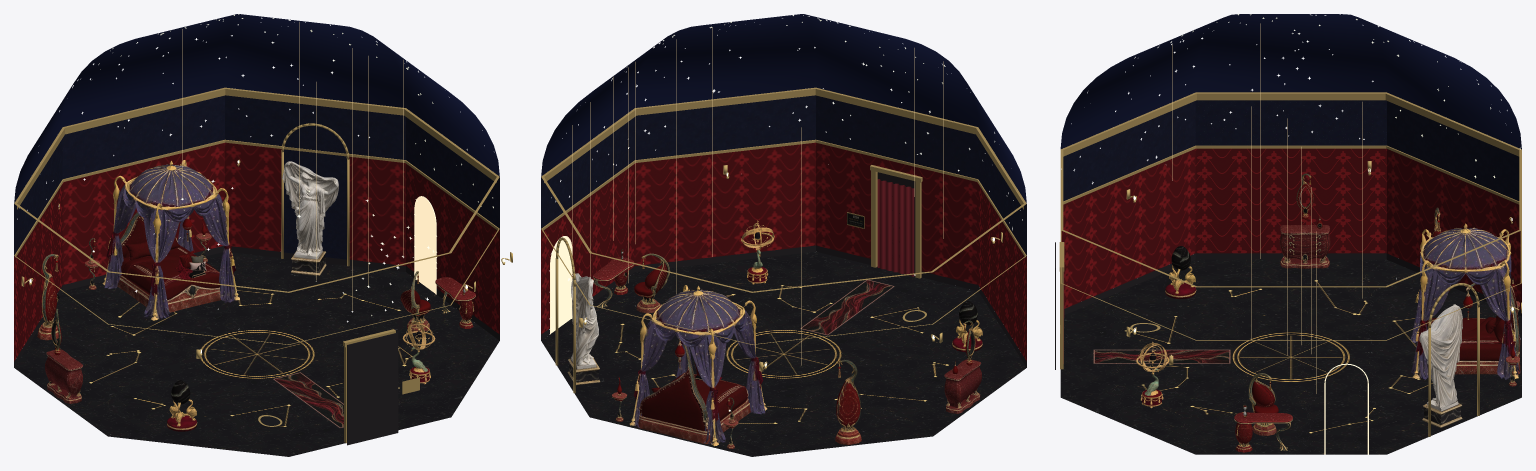
The model's file is rdwe_god_nyx.glb.
The picture shows the model from 3 angles, left to right: view 1: azimuth 30°, elevation 25°; view 2: azimuth 150°, elevation 25°; view 3: azimuth 270°, elevation 25°; orthographic projection.
Parts seen in each view (by area): view 1: Floor_Marble, Wall_Damask, Dome_Night, Wall_Upper, Gold_Trim, Nyx_P20_veil_canopy, Trim_Black, Nyx_NX-05_bed, Nyx_P4_statue_nyx, DoorLeaf_Nyx_Star, Nyx_NX-11_runner, Nyx_NX-03_dresser (+6 smaller); view 2: Floor_Marble, Wall_Damask, Dome_Night, Wall_Upper, Gold_Trim, Nyx_P20_veil_canopy, Nyx_NX-05_bed, DoorLeaf_Nyx_In, Trim_Black, Nyx_P4_statue_nyx, Nyx_NX-11_runner, DoorLeaf_Nyx_Star (+6 smaller); view 3: Floor_Marble, Wall_Damask, Dome_Night, Wall_Upper, Gold_Trim, Nyx_P20_veil_canopy, Nyx_P4_statue_nyx, Nyx_NX-05_bed, Trim_Black, Nyx_NX-03_dresser, Nyx_NX-11_runner, Nyx_NX-07_writing_desk (+3 smaller).
Boxes of the visible parts, x1,y1,x2,y2 form: Floor_Marble: [14, 252, 499, 456]; Wall_Damask: [14, 142, 499, 361]; Dome_Night: [14, 14, 499, 203]; Wall_Upper: [14, 95, 499, 259]; Gold_Trim: [14, 87, 499, 443]; Nyx_P20_veil_canopy: [102, 160, 239, 320]; Trim_Black: [14, 246, 499, 445]; Nyx_NX-05_bed: [117, 212, 220, 312]; Nyx_P4_statue_nyx: [282, 161, 338, 275]; DoorLeaf_Nyx_Star: [414, 196, 436, 294]; Nyx_NX-11_runner: [272, 372, 343, 428]; Nyx_NX-03_dresser: [45, 349, 82, 403]; Floor_Marble: [541, 251, 1026, 456]; Wall_Damask: [541, 142, 1026, 361]; Dome_Night: [541, 14, 1026, 202]; Wall_Upper: [541, 95, 1026, 256]; Gold_Trim: [541, 87, 1026, 393]; Nyx_P20_veil_canopy: [629, 285, 767, 446]; Nyx_NX-05_bed: [637, 337, 751, 444]; DoorLeaf_Nyx_In: [877, 179, 914, 276]; Trim_Black: [541, 172, 1026, 367]; Nyx_P4_statue_nyx: [567, 273, 600, 384]; Nyx_NX-11_runner: [799, 279, 895, 335]; DoorLeaf_Nyx_Star: [550, 236, 572, 334]; Floor_Marble: [1060, 259, 1521, 454]; Wall_Damask: [1061, 148, 1521, 309]; Dome_Night: [1060, 14, 1521, 149]; Wall_Upper: [1063, 100, 1519, 201]; Gold_Trim: [1059, 92, 1521, 436]; Nyx_P20_veil_canopy: [1410, 223, 1520, 379]; Nyx_P4_statue_nyx: [1419, 304, 1462, 427]; Nyx_NX-05_bed: [1426, 283, 1520, 374]; Trim_Black: [1055, 242, 1521, 369]; Nyx_NX-03_dresser: [1279, 225, 1330, 268]; Nyx_NX-11_runner: [1093, 349, 1231, 363]; Nyx_NX-07_writing_desk: [1234, 412, 1292, 452].
Bounding box in the file's own units: 10 × 7.56 × 10.12.
Materials: 31 (21 with a texture image).
